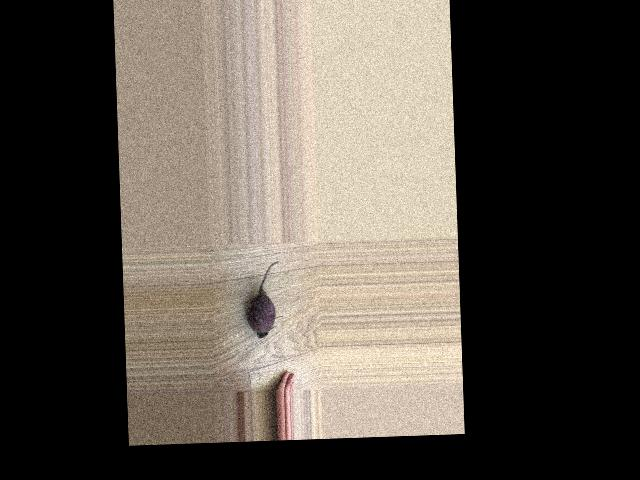beet: (245, 260, 283, 337)
